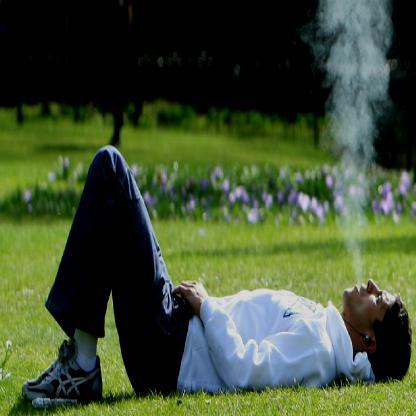person: (36, 143, 414, 405)
smoke: (311, 0, 387, 145)
